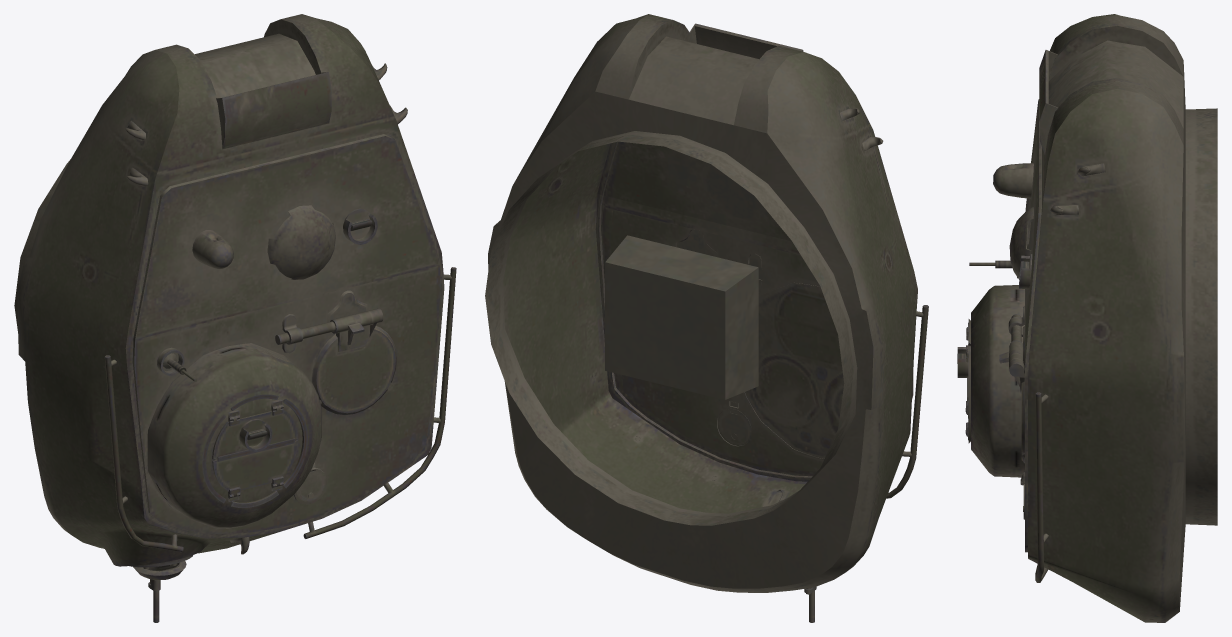
The model's file is Turret_03.glb.
3 views of the same model, side by side, from view 1: azimuth 30°, elevation 25°; view 2: azimuth 150°, elevation 25°; view 3: azimuth 270°, elevation 25° (orthographic). The views are drawn at different scales.
Visible parts, largest first — view 1: set_0_group_0; view 2: set_0_group_0; view 3: set_0_group_0.
Part boxes in pixels (x1,y1,x2,y2): set_0_group_0: (14, 14, 456, 622); set_0_group_0: (485, 14, 928, 622); set_0_group_0: (957, 14, 1217, 622).
Size of the model in its own units: 2.28 by 3.18 by 1.3.
1 material, 1 textured.
